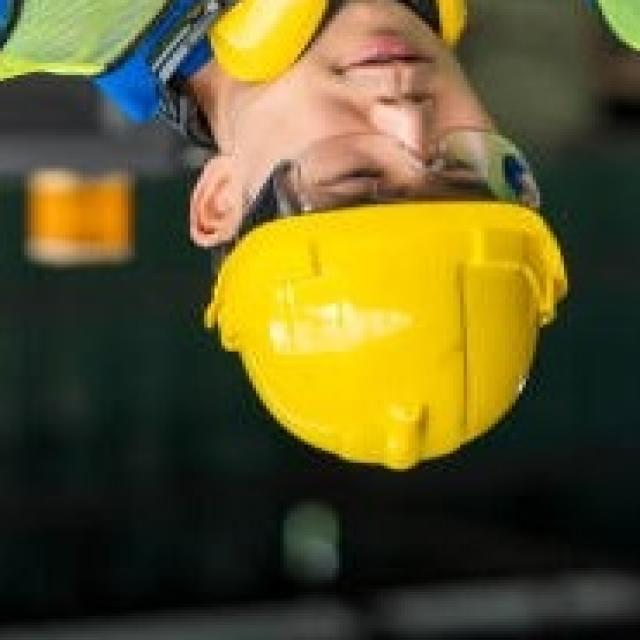goggles: (214, 123, 551, 253)
